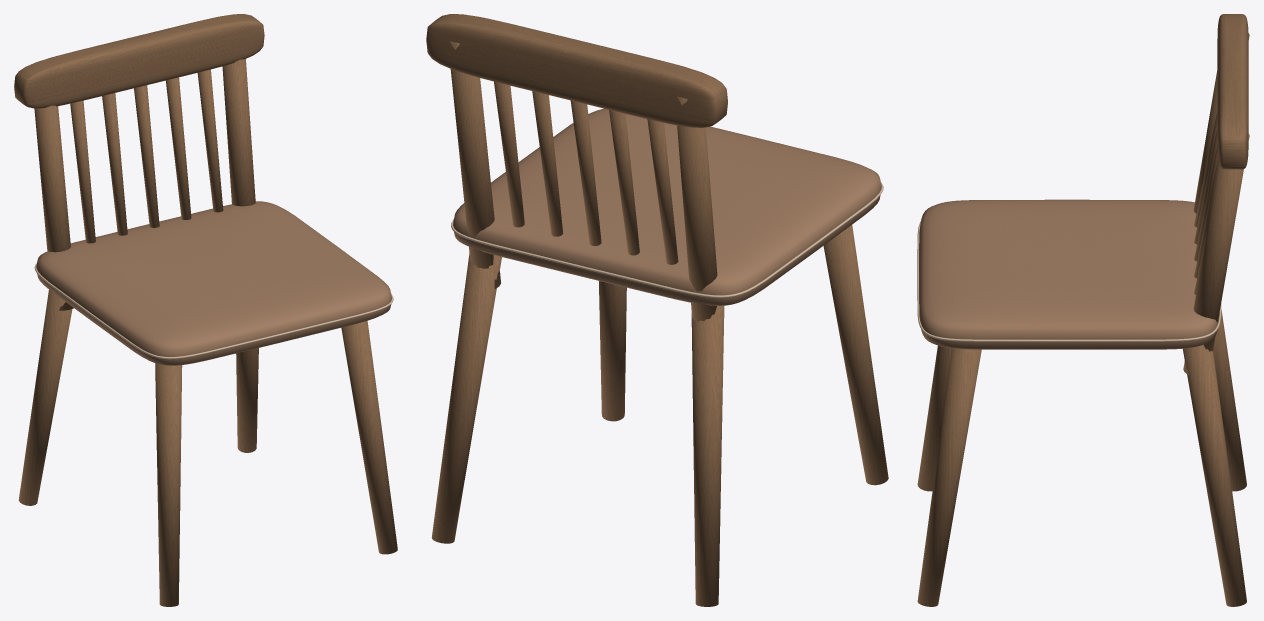
File: traditional.dining_chair.gltf
The picture shows the model from 3 angles, left to right: view 1: azimuth 30°, elevation 25°; view 2: azimuth 150°, elevation 25°; view 3: azimuth 270°, elevation 25°; orthographic projection. The views are drawn at different scales.
Parts seen in each view (by area): view 1: traditional.dining_chair.leg; view 2: traditional.dining_chair.leg; view 3: traditional.dining_chair.leg.
Boxes of the visible parts, left/top/right/bottom form: traditional.dining_chair.leg: left=14, top=14, right=397, bottom=606; traditional.dining_chair.leg: left=426, top=14, right=888, bottom=606; traditional.dining_chair.leg: left=917, top=14, right=1249, bottom=606.
Bounding box in the file's own units: 0.4799 × 0.8045 × 0.5064.
3 materials, 2 textured.
